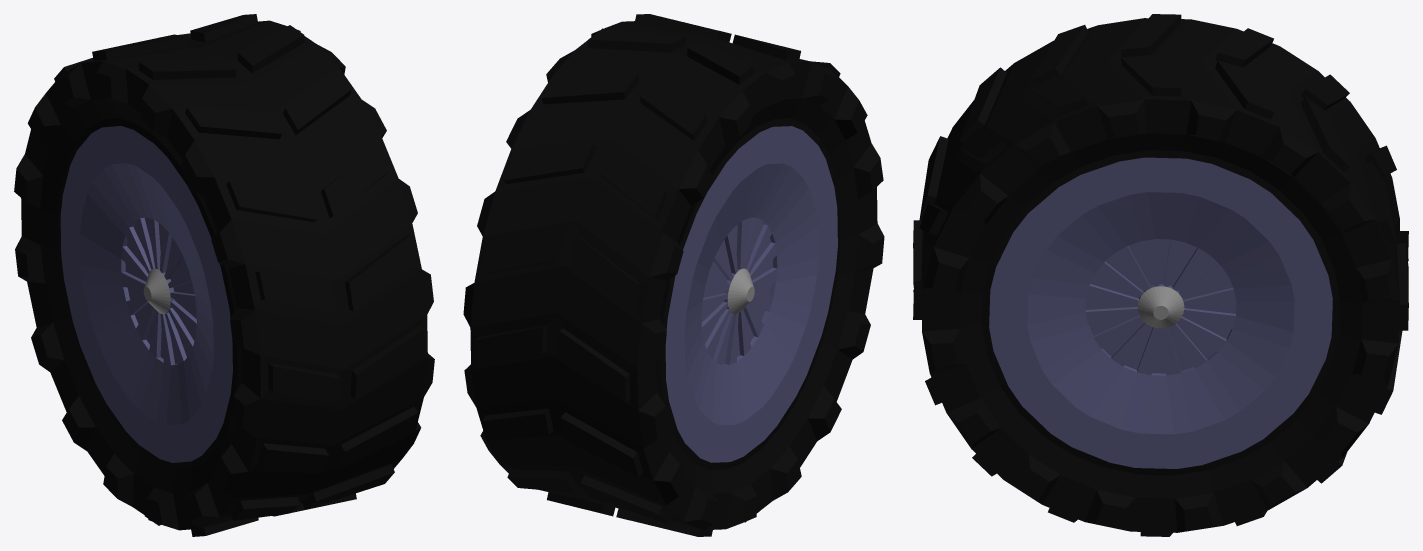
Rendered from _ew wheel.fbx.
3 views of the same model, side by side, from view 1: azimuth 30°, elevation 25°; view 2: azimuth 150°, elevation 25°; view 3: azimuth 270°, elevation 25° (orthographic).
Parts seen in each view (by area): view 1: New Wheel; view 2: New Wheel; view 3: New Wheel.
Boxes of the visible parts, <box> form: New Wheel: <box>14,14,434,536</box>; New Wheel: <box>463,14,884,536</box>; New Wheel: <box>913,14,1408,536</box>.
Bounding box in the file's own units: 91.3 × 207 × 207.
